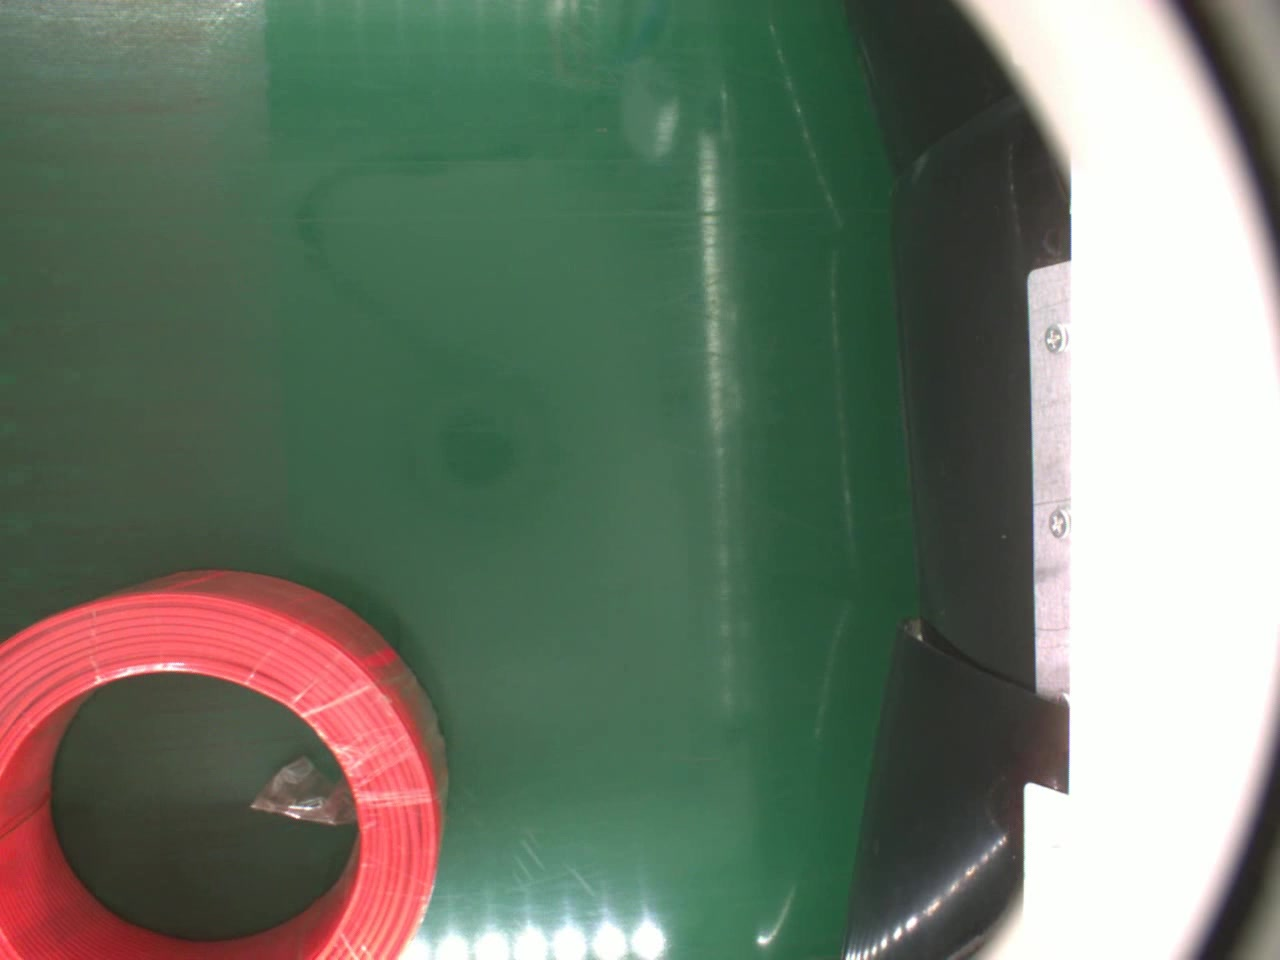red: (0, 569, 450, 960)
